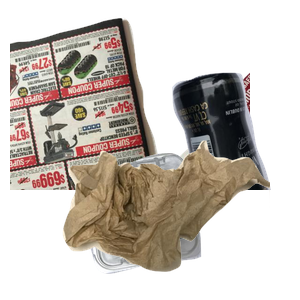glass: (106, 70, 300, 250)
paper: (10, 15, 250, 195)
plastic: (76, 151, 270, 300)
trash: (60, 138, 300, 300)
